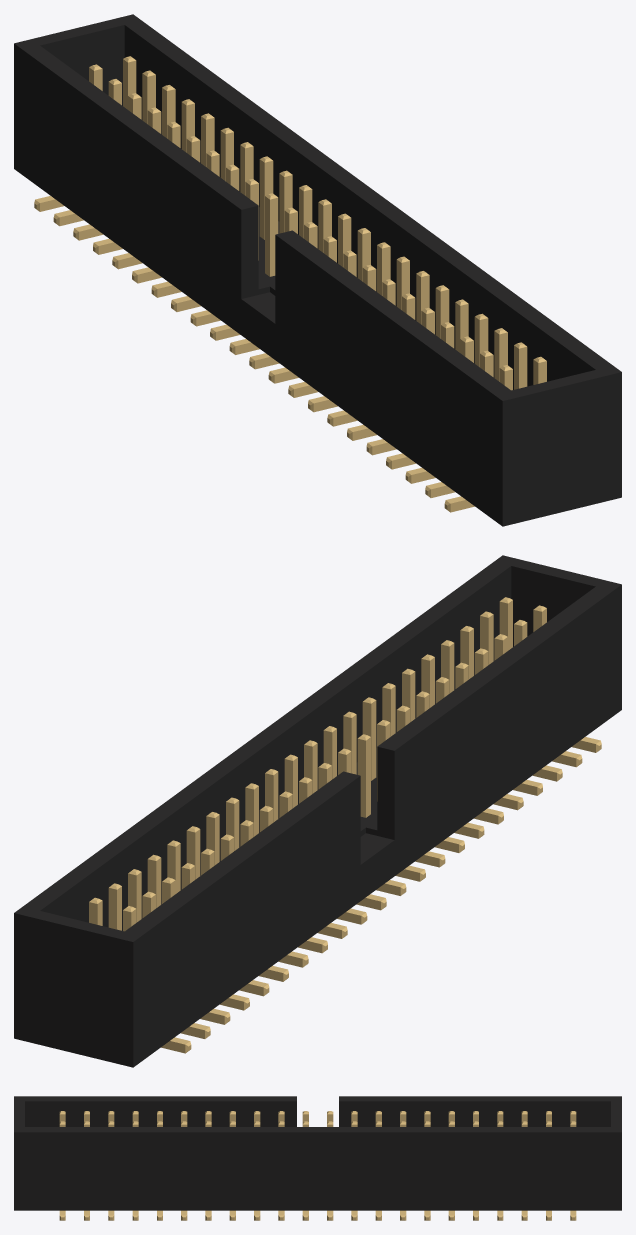
Rendered from kc-idc-header_2x22_p2.54mm_vertical_smd.glb.
3 renders of one model, top to bottom at view 1: azimuth 30°, elevation 25°; view 2: azimuth 150°, elevation 25°; view 3: azimuth 270°, elevation 25°, orthographic. The views are drawn at different scales.
Visible parts, largest first — view 1: 0_0_0_0, 0.75_0.5_0.25_0.9; view 2: 0_0_0_0, 0.75_0.5_0.25_0.9; view 3: 0_0_0_0, 0.75_0.5_0.25_0.9.
Part boxes in pixels (x1,y1,x2,y2): 0_0_0_0: (14,14,621,526); 0.75_0.5_0.25_0.9: (34,56,546,512); 0_0_0_0: (14,555,621,1067); 0.75_0.5_0.25_0.9: (89,597,601,1053); 0_0_0_0: (14,1096,621,1210); 0.75_0.5_0.25_0.9: (59,1111,576,1220).
Size of the model in its own units: 1.16 by 0.9639 by 6.35.
